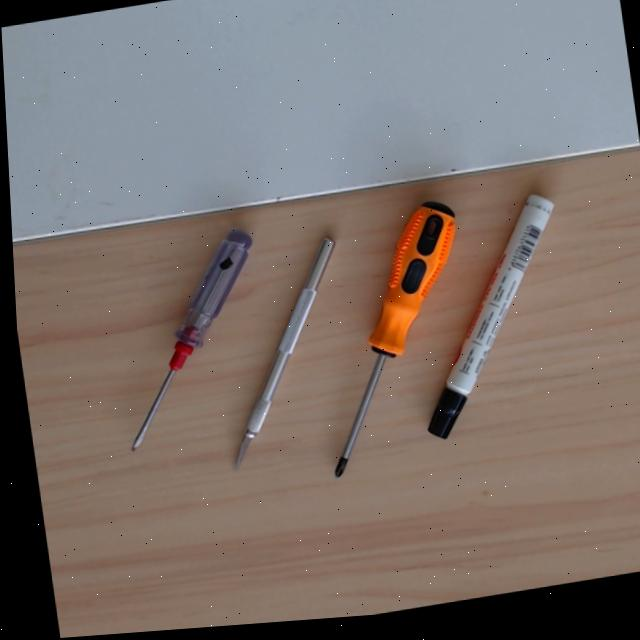Cutter-Kecil: (228, 233, 337, 474)
Marker-Pen: (421, 191, 558, 445)
Obeng-Besar: (293, 193, 469, 482)
Obeng-Kecil: (116, 225, 258, 455)
